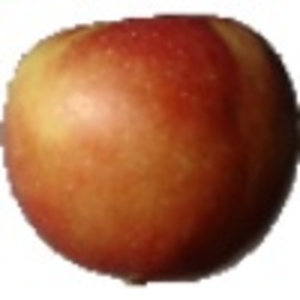maçã braeburn: (1, 9, 299, 282)
